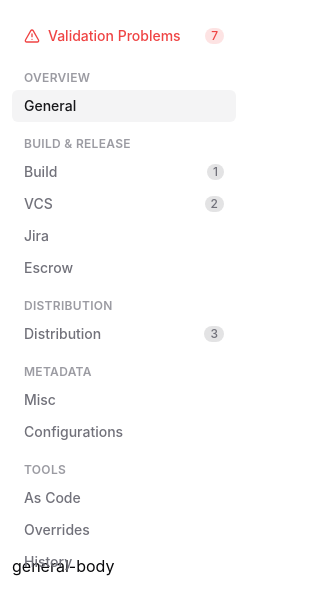
EditorSidebarNav › pins a destructive Validation Problems item at the TOP with its count when present
Expected: the text "7" is shown, [205,28,224,44]
Step 1. Click the tab "Validation Problems 7" → click(124, 36), box [12,20,236,52]
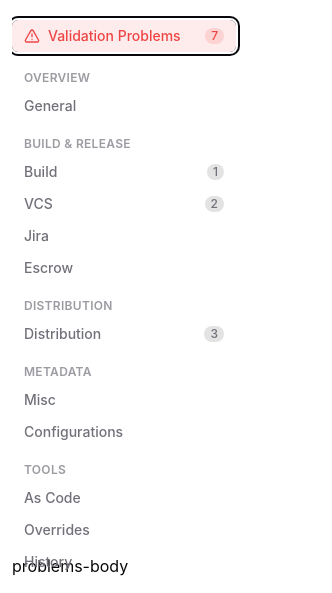
Now the text "problems-body" is shown, box [12,556,128,576]
